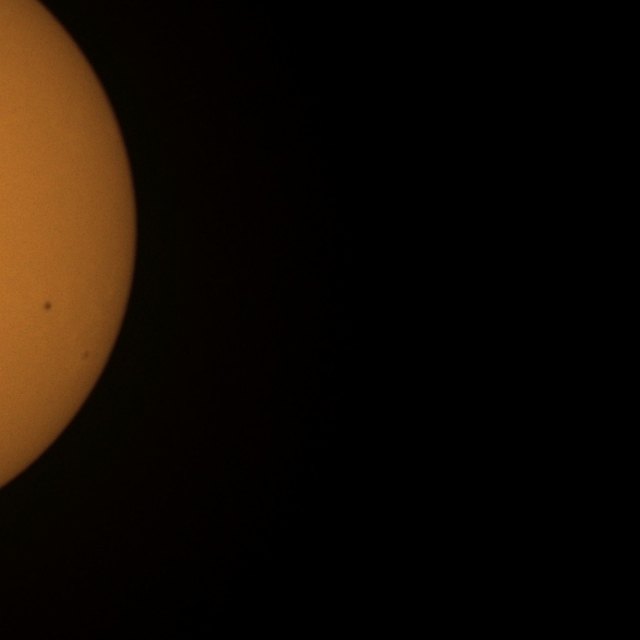sunspot: (42, 300, 53, 313)
